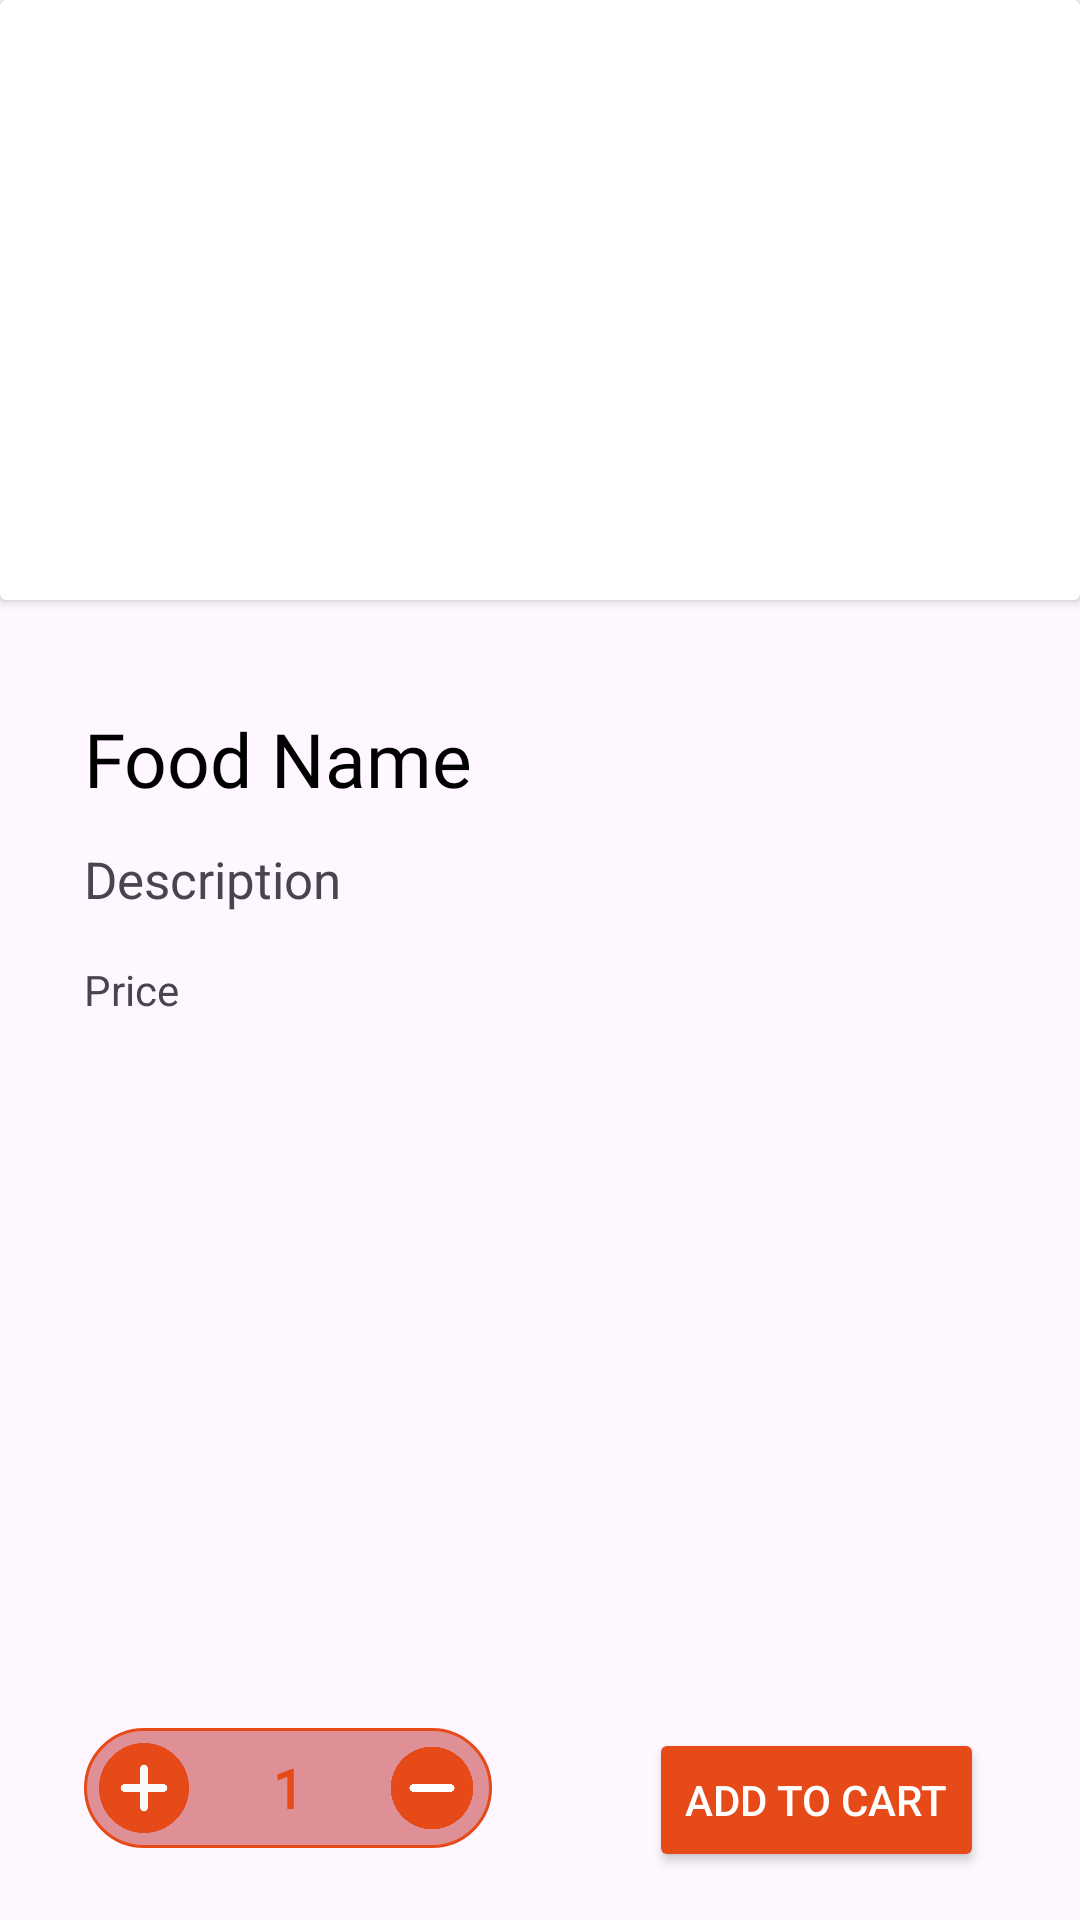

Icons on this 1080x1920 Android screen, each with its box as (x1, y1, x2, y2):
minusbutton: (372, 1728, 492, 1848)
plus: (84, 1728, 204, 1848)
